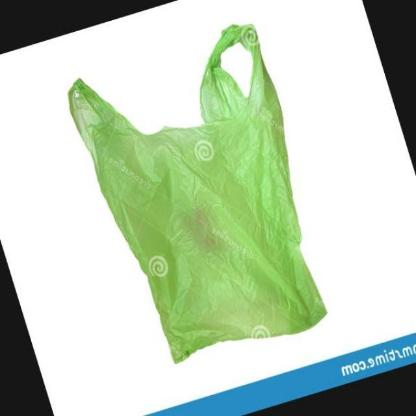Plastic Bag: (67, 23, 328, 364)
